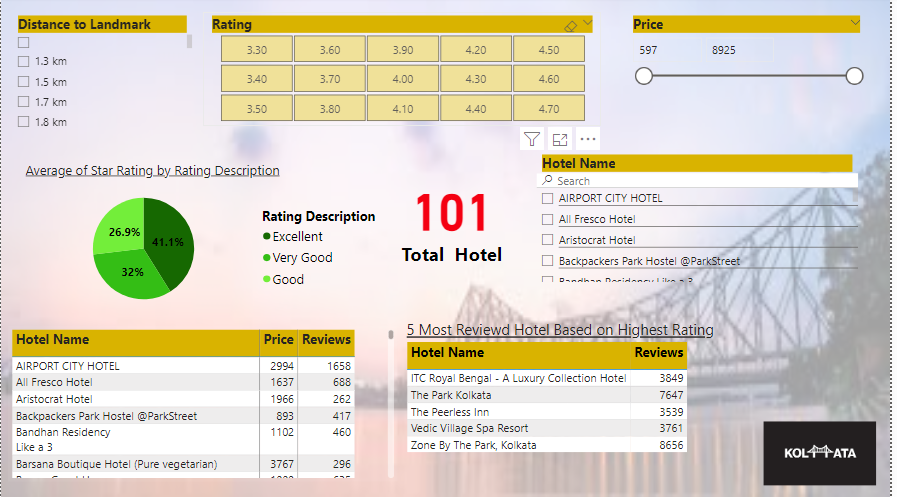

Layout of this report page (visuals, bound fields, positions):
{"tool":"powerbi","page":{"name":"Kolkata","canvas":[1280,720],"ordinal":5},"visuals":[{"type":"slicer","fields":{"Values":["kolkata.Price"]},"box":[897.2,21.3,352.9,164.4],"z":0},{"type":"card","fields":{"Values":["CountNonNull(kolkata.Hotel Name)"]},"box":[510.2,236.7,279.2,164.4],"z":1000},{"type":"slicer","fields":{"Values":["kolkata.Rating"]},"box":[290.6,21.3,574,164.4],"z":2000},{"type":"slicer","fields":{"Values":["kolkata.Distance to Landmark"]},"box":[11.3,21.3,269.3,175.7],"z":3000},{"type":"slicer","fields":{"Values":["kolkata.Hotel Name"]},"box":[766.8,221.1,473.4,194.2],"z":4000},{"type":"pieChart","fields":{"Category":["kolkata.Rating Description"],"Y":["Avg(kolkata.Star Rating)"]},"box":[29.8,236.7,514.5,226.8],"z":5000},{"type":"tableEx","fields":{"Values":["kolkata.Hotel Name","kolkata.Price","kolkata.Reviews"]},"box":[9.9,473.4,561.3,223.9],"z":6000},{"type":"tableEx","title":"5 Most Reviewd Hotel Based on Highest Rating","fields":{"Values":["kolkata.Hotel Name","kolkata.Reviews"]},"box":[578.3,463.5,496.1,233.9],"z":7000},{"type":"image","box":[1077.2,606.6,202.7,102],"z":8000}]}

Visuals, with their boxes in screenshot pixels (x1, y1, x2, y2), scaled from the page's 1280x720 canvas onto the 897x497 screenshot:
slicer - kolkata.Price: box=[629, 15, 876, 128]
card - CountNonNull(kolkata.Hotel Name): box=[358, 163, 553, 277]
slicer - kolkata.Rating: box=[204, 15, 606, 128]
slicer - kolkata.Distance to Landmark: box=[8, 15, 197, 136]
slicer - kolkata.Hotel Name: box=[537, 153, 869, 287]
pieChart - kolkata.Rating Description x Avg(kolkata.Star Rating): box=[21, 163, 381, 320]
tableEx - kolkata.Hotel Name x kolkata.Price: box=[7, 327, 400, 481]
"5 Most Reviewd Hotel Based on Highest Rating" tableEx: box=[405, 320, 753, 481]
image: box=[755, 419, 896, 489]
